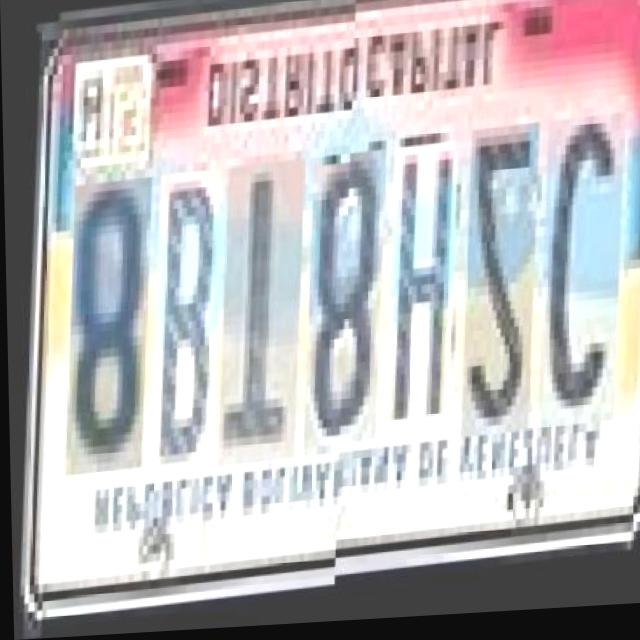2: (451, 144, 538, 459)
8: (56, 180, 150, 479), (295, 167, 385, 465)
b: (141, 174, 223, 479)
c: (527, 137, 624, 452)
h: (375, 160, 457, 456)
t: (209, 166, 305, 473)
